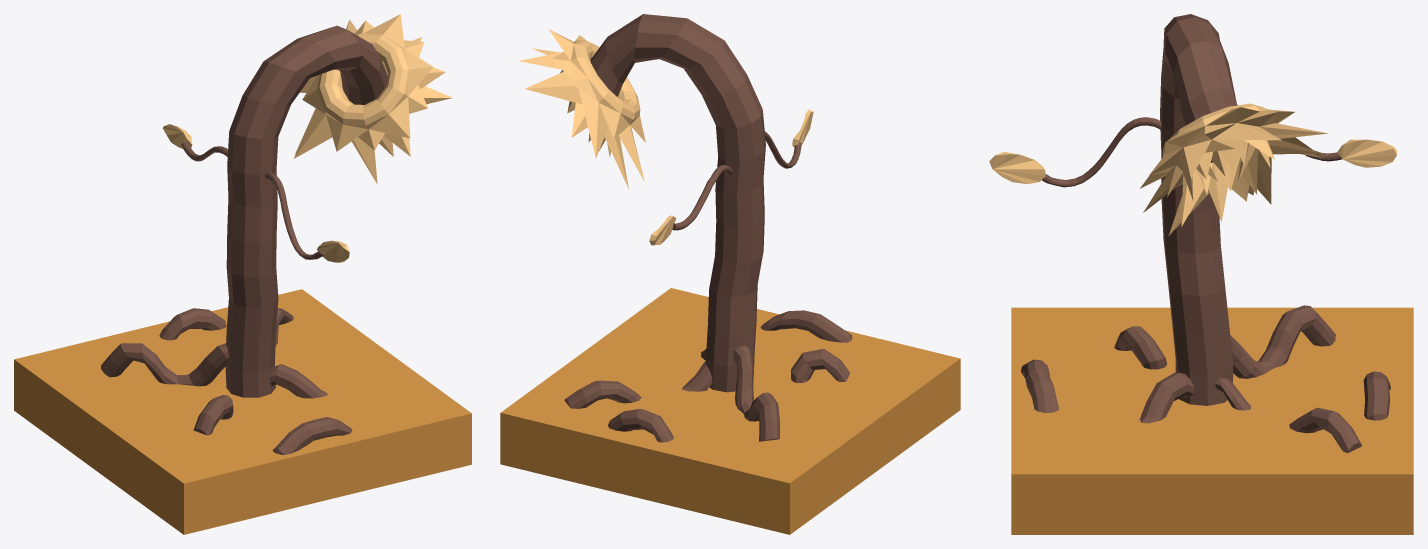
The picture shows the model from 3 angles, left to right: view 1: azimuth 30°, elevation 25°; view 2: azimuth 150°, elevation 25°; view 3: azimuth 270°, elevation 25°; orthographic projection. The views are drawn at different scales.
Visible parts, largest first — view 1: mesh_1537693769, group_1546954921, mesh_1156636636, group_1160950134, group_1654444352, group_994693432, group_1564182096, group_741601167, group_1279101827, mesh_1209675650; view 2: mesh_1537693769, group_1546954921, mesh_1156636636, group_1160950134, group_1887224404, group_1654444352, group_741601167, group_994693432, group_1500292088; view 3: mesh_1537693769, group_1546954921, mesh_1156636636, group_1160950134, group_1887224404, group_1564182096, mesh_1886342384, group_1654444352, group_741601167, mesh_1209675650, group_994693432, group_1279101827.
Boxes of the visible parts, x1,y1,x2,y2 form: mesh_1537693769: (14,289,471,534); group_1546954921: (225,25,387,397); mesh_1156636636: (294,14,452,184); group_1160950134: (101,343,228,386); group_1654444352: (272,417,352,454); group_994693432: (159,308,226,340); group_1564182096: (269,364,327,398); group_741601167: (193,395,233,435); group_1279101827: (265,172,324,259); mesh_1209675650: (317,240,349,262); mesh_1537693769: (500,288,960,534); group_1546954921: (590,14,765,392); mesh_1156636636: (519,29,645,188); group_1160950134: (733,346,779,441); group_1887224404: (564,361,712,408); group_1654444352: (760,310,852,342); group_741601167: (791,349,849,383); group_994693432: (608,409,673,442); group_1500292088: (672,165,732,230); mesh_1537693769: (1011,307,1413,534); group_1546954921: (1160,14,1237,405); mesh_1156636636: (1140,103,1328,235); group_1160950134: (1230,305,1335,378); group_1887224404: (1215,377,1361,453); group_1564182096: (1139,372,1194,423); mesh_1886342384: (1337,139,1396,167); group_1654444352: (1021,359,1058,412); group_741601167: (1114,326,1167,369); mesh_1209675650: (989,151,1045,184); group_994693432: (1363,371,1390,420); group_1279101827: (1042,117,1161,187).
Size of the model in its own units: 55.14 by 61.24 by 50.66.
